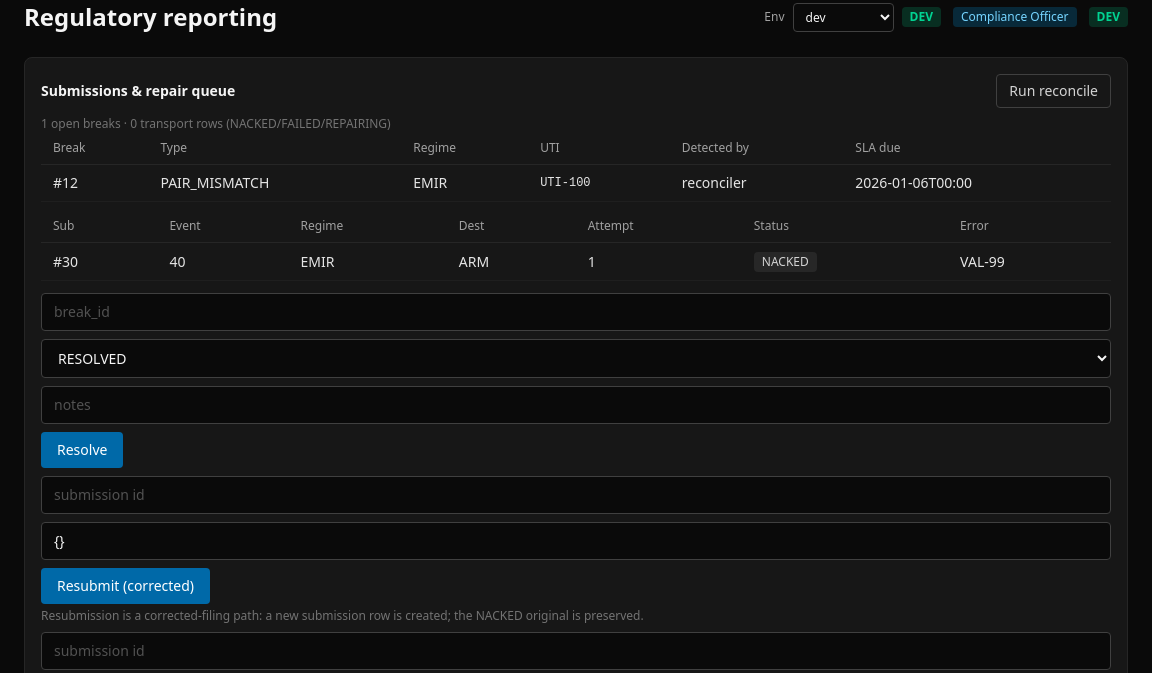
Test case: RegReportingPage › resolves a break with the RESOLVED|WONT_FIX disposition contract
This screenshot has width=1152, height=673.
Step 1. Type "12" into the field named "Break id" → (576, 312), box 41,293 -> 1111,331
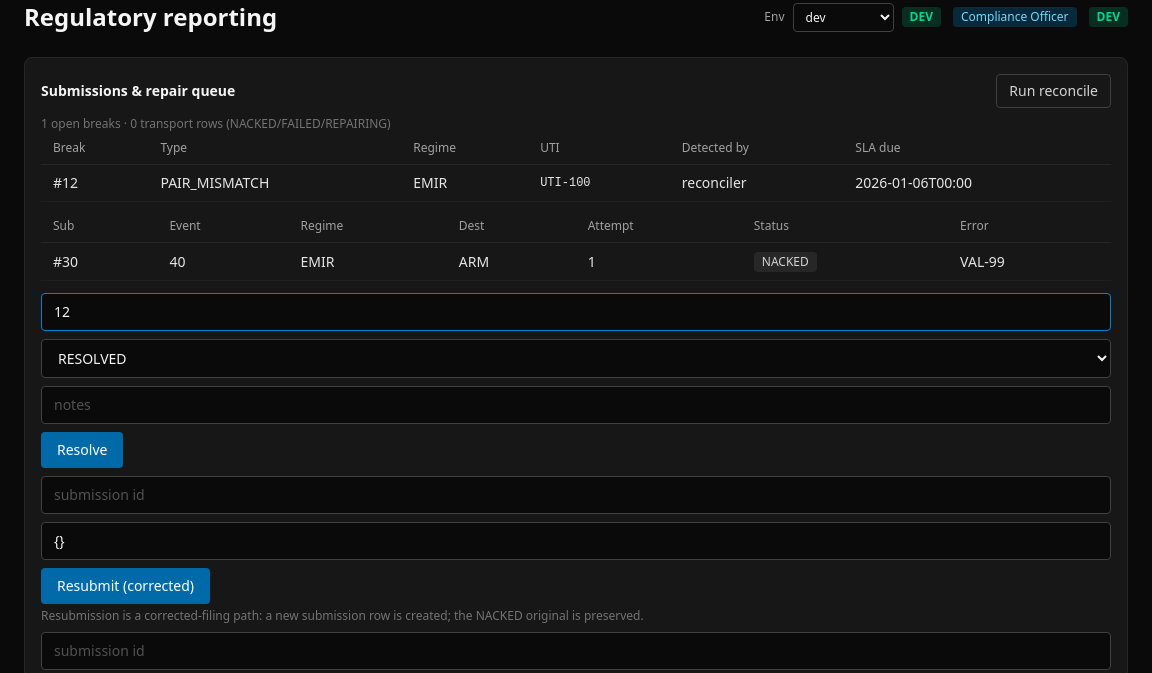
Step 2. Type "counterparty confirmed" into the field named "Break notes" → (576, 405), box 41,386 -> 1111,424
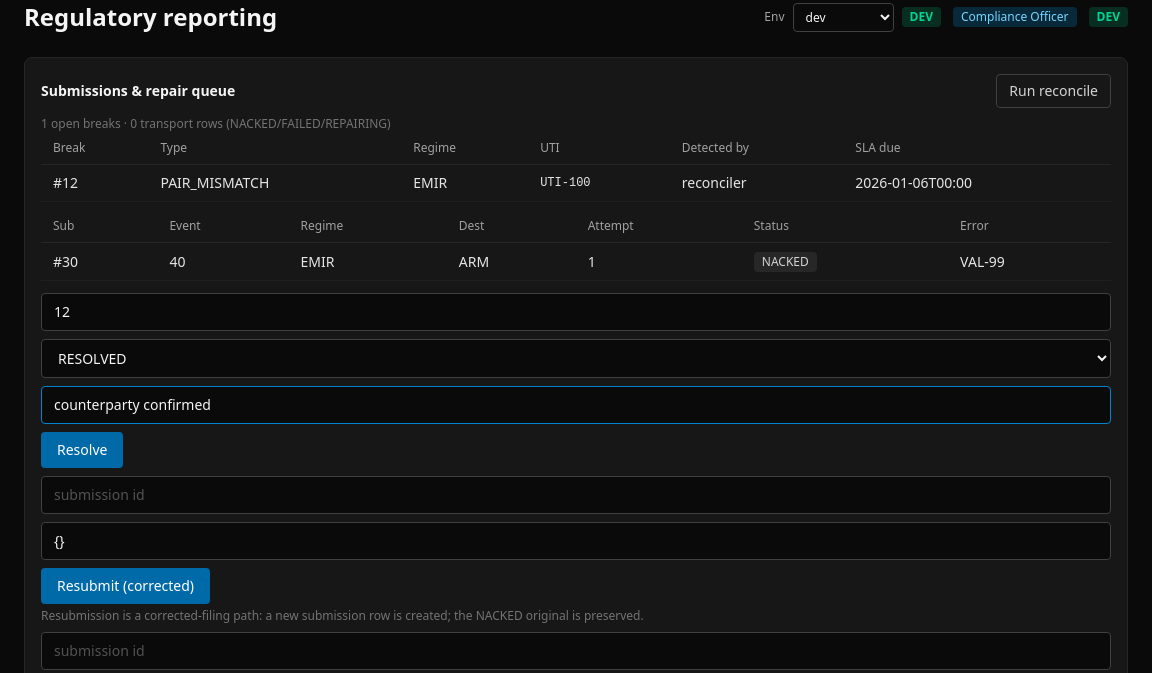
Step 3. Click the button "Resolve" → (82, 450), box 41,432 -> 123,468
(page scrolled)
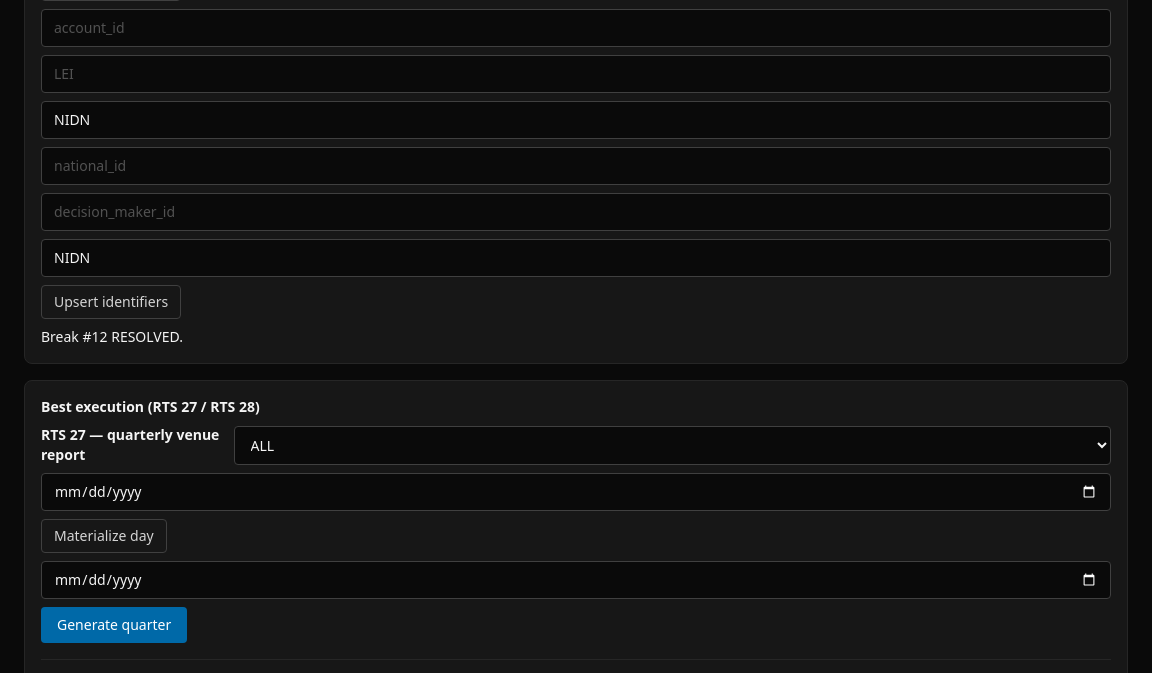
Now the text "Break #12 RESOLVED." is shown, box 41,327 -> 183,346
